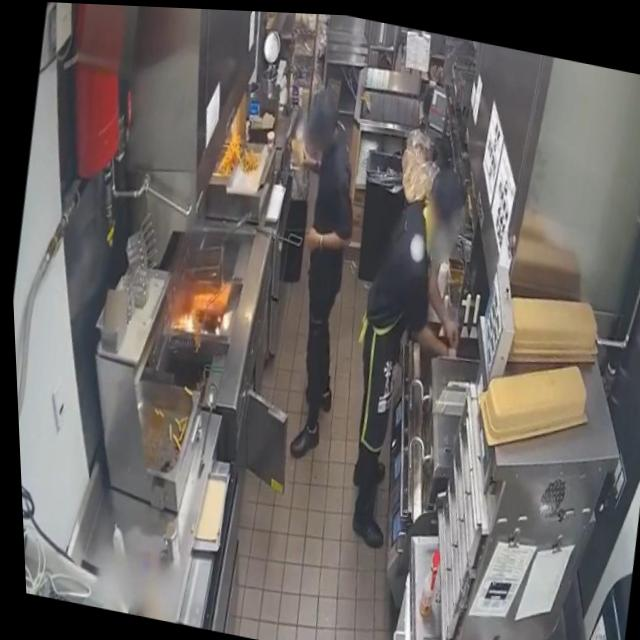fire: (171, 304, 197, 333)
